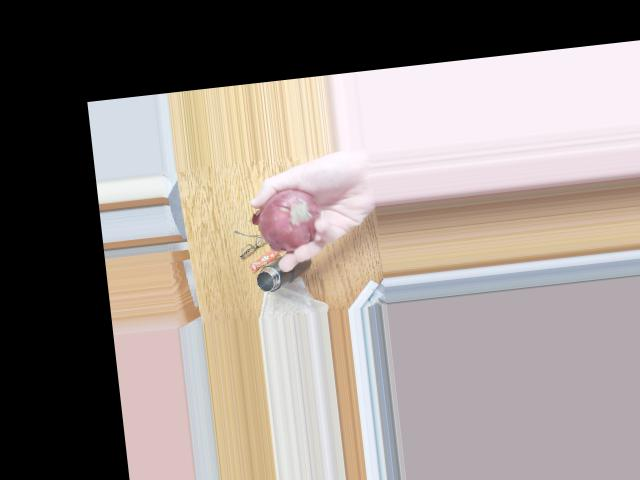onion: (258, 184, 329, 243)
